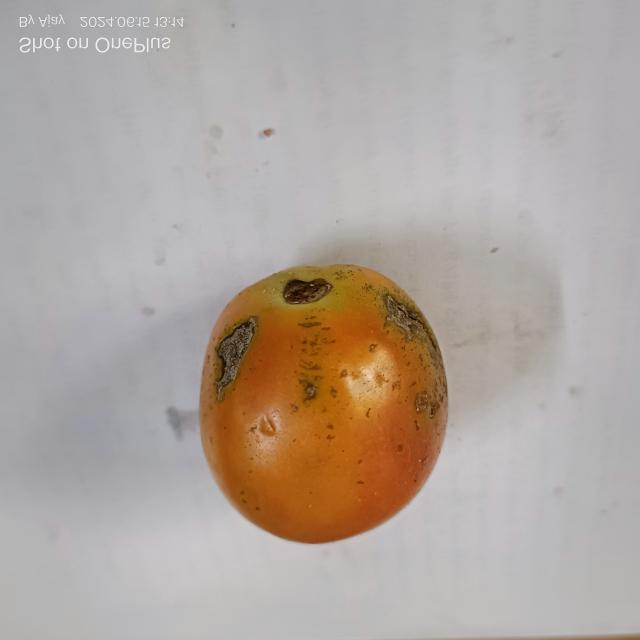Bacterial_Spot: (374, 292, 452, 416), (204, 314, 258, 406), (292, 375, 326, 410)
